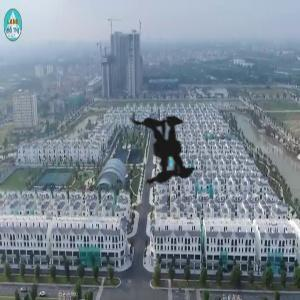drone: (57, 29, 283, 255)
